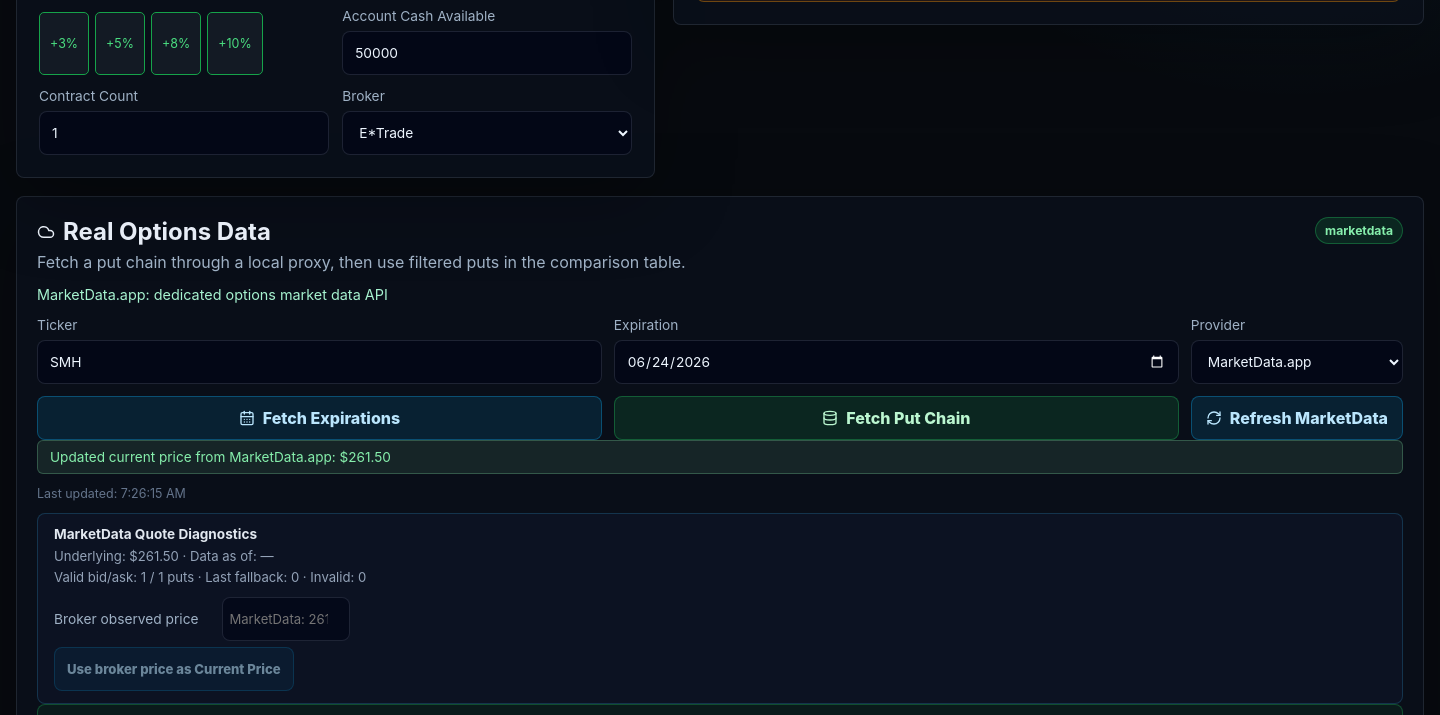
Scenario: App › hides stale comparison warning after Use in Comparison Table applied
This screenshot has width=1440, height=715.
(page scrolled)
Select "MarketData.app" in the dropdown named "options provider" at (1297, 362), box x1=1191 y1=340 x2=1403 y2=384
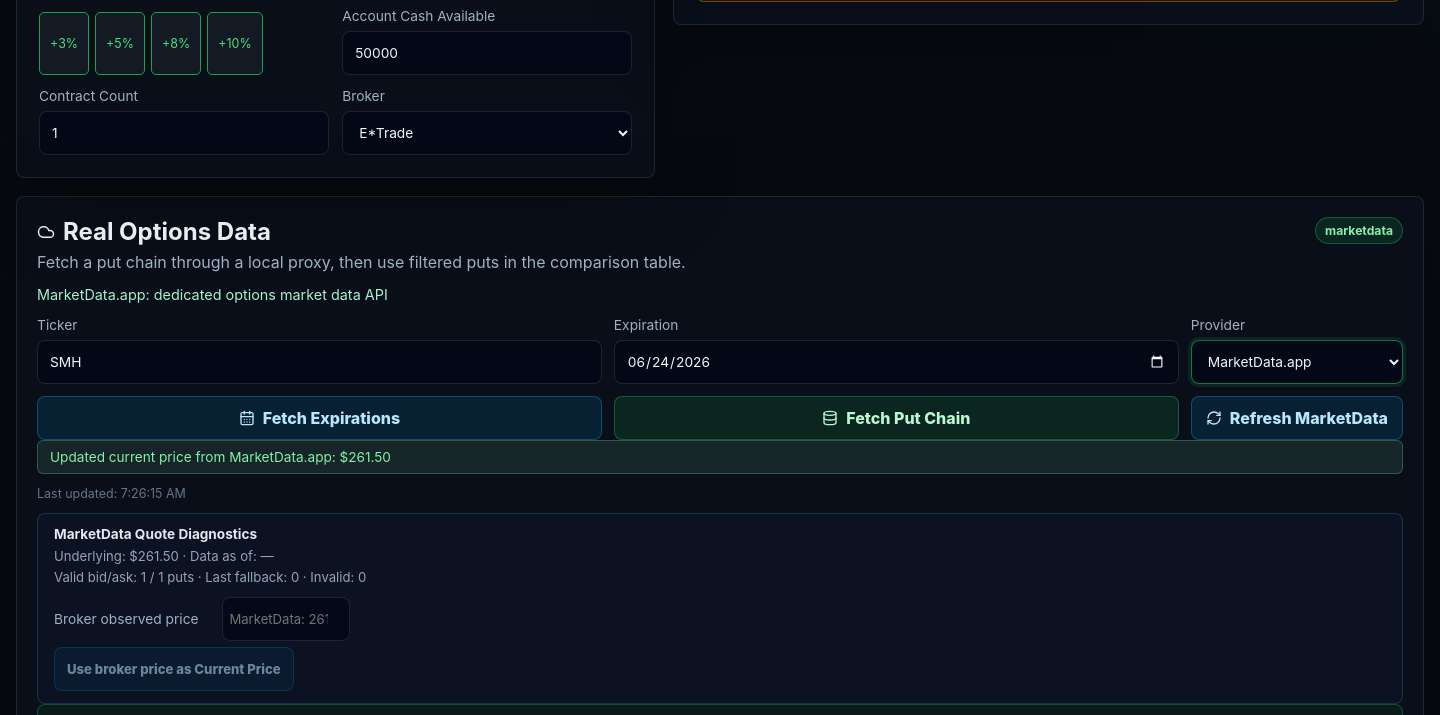
Click the button "Fetch Put Chain" at (896, 418), box x1=614 y1=396 x2=1179 y2=440
(page scrolled)
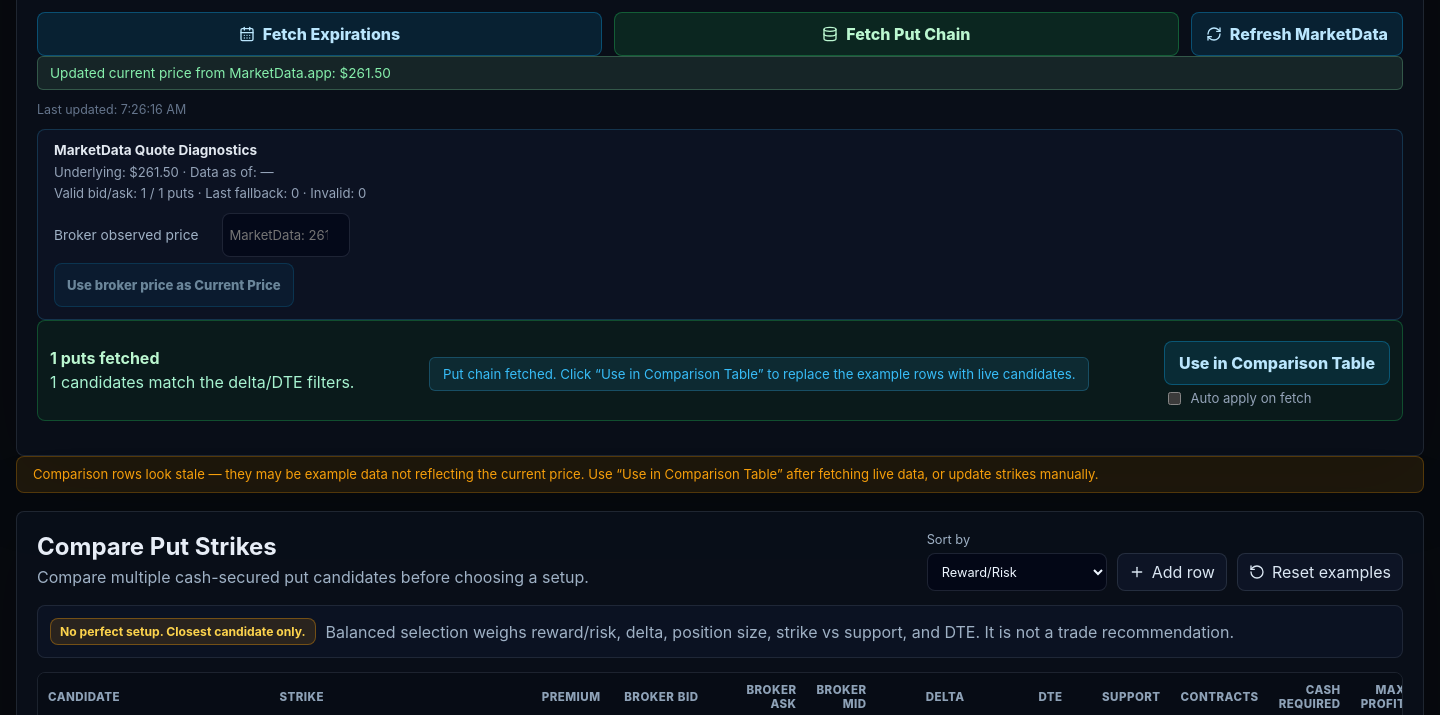
Expected: the text "Put chain fetched" is shown, x1=443 y1=366 x2=1075 y2=382
Click the button "Use in Comparison Table" at (1277, 363), box x1=1164 y1=341 x2=1390 y2=385
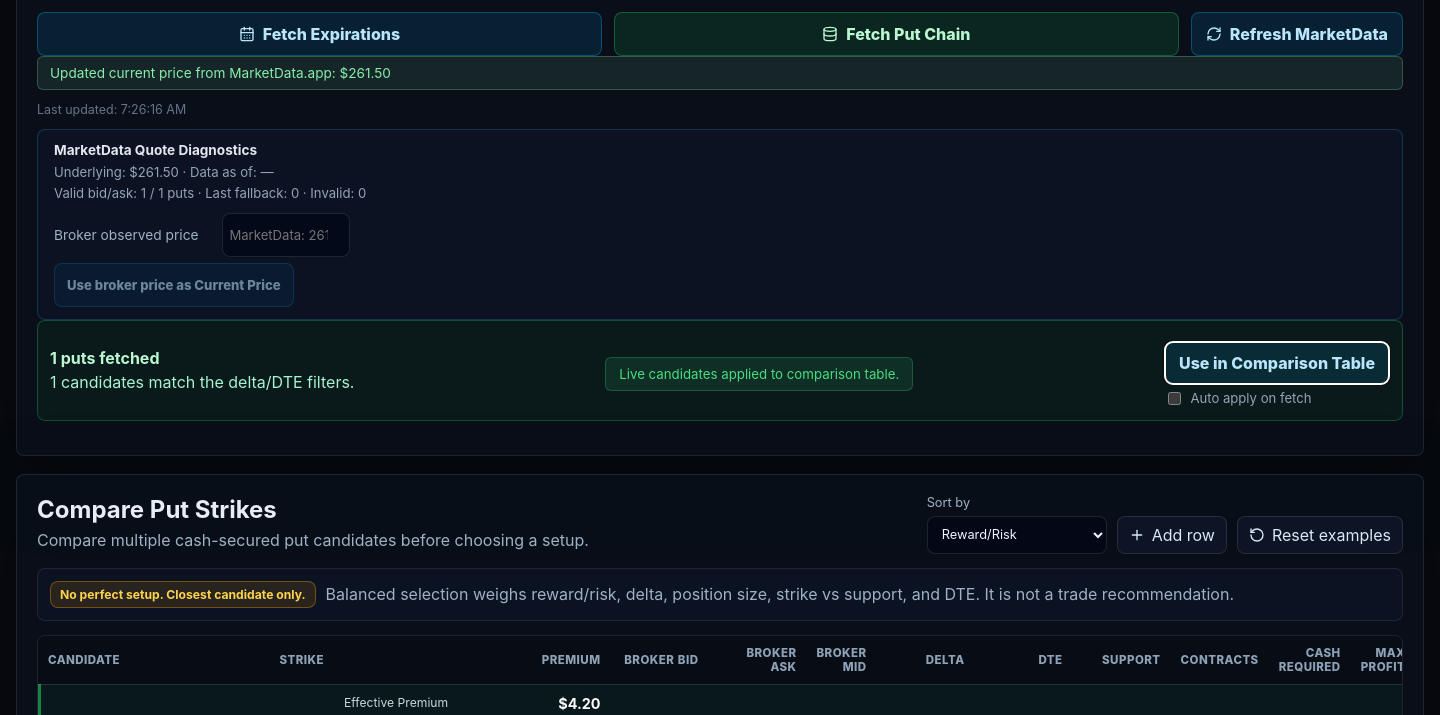
Result: the text "Live candidates applied to comparison table." is shown at x1=605 y1=357 x2=913 y2=391
Result: the text "Comparison rows look stale" is gone
